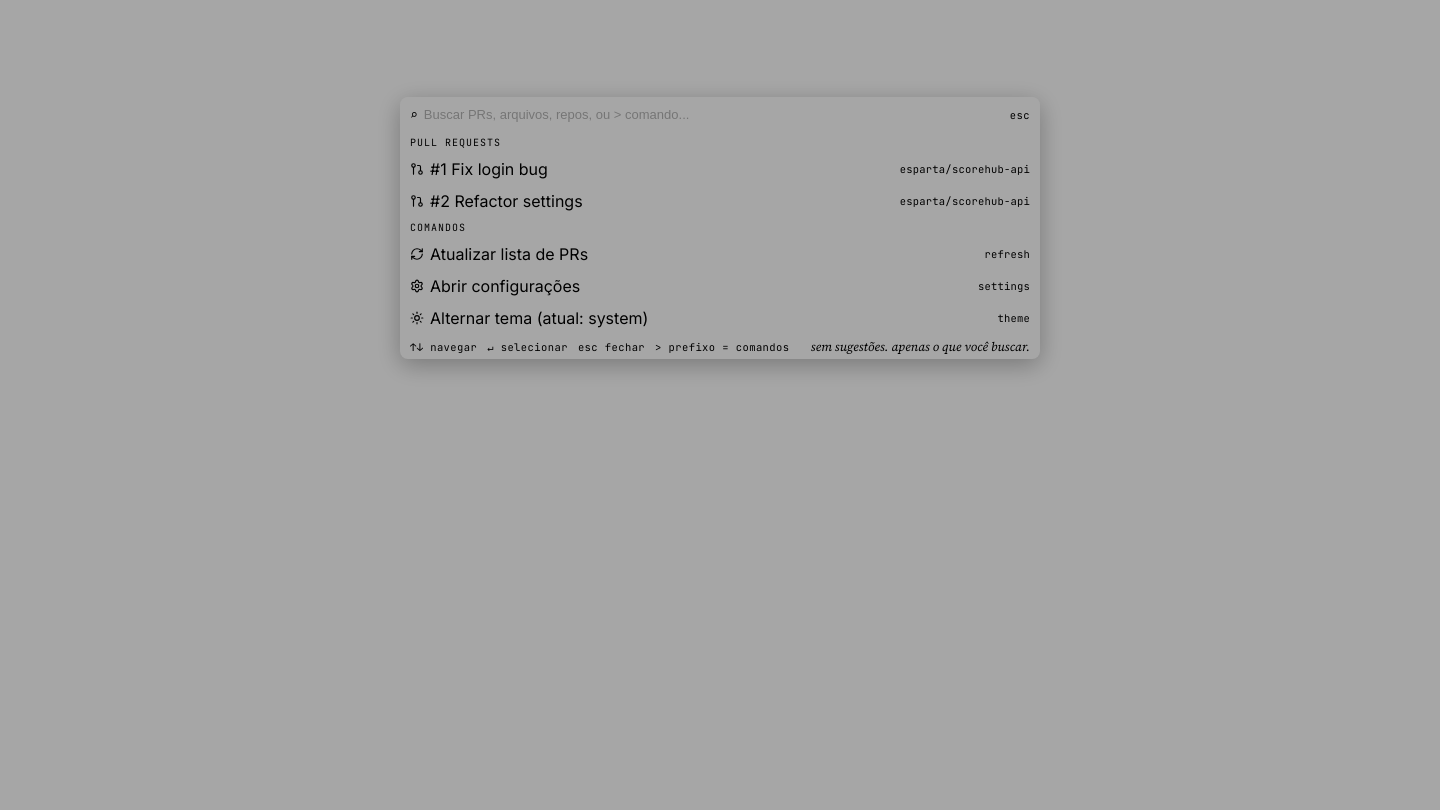
Test: CommandPalette › fuzzy filters PRs by title
The image size is (1440, 810).
Type "login" into the field labelled "Buscar" at (714, 115), box left=424, top=103, right=1004, bottom=126
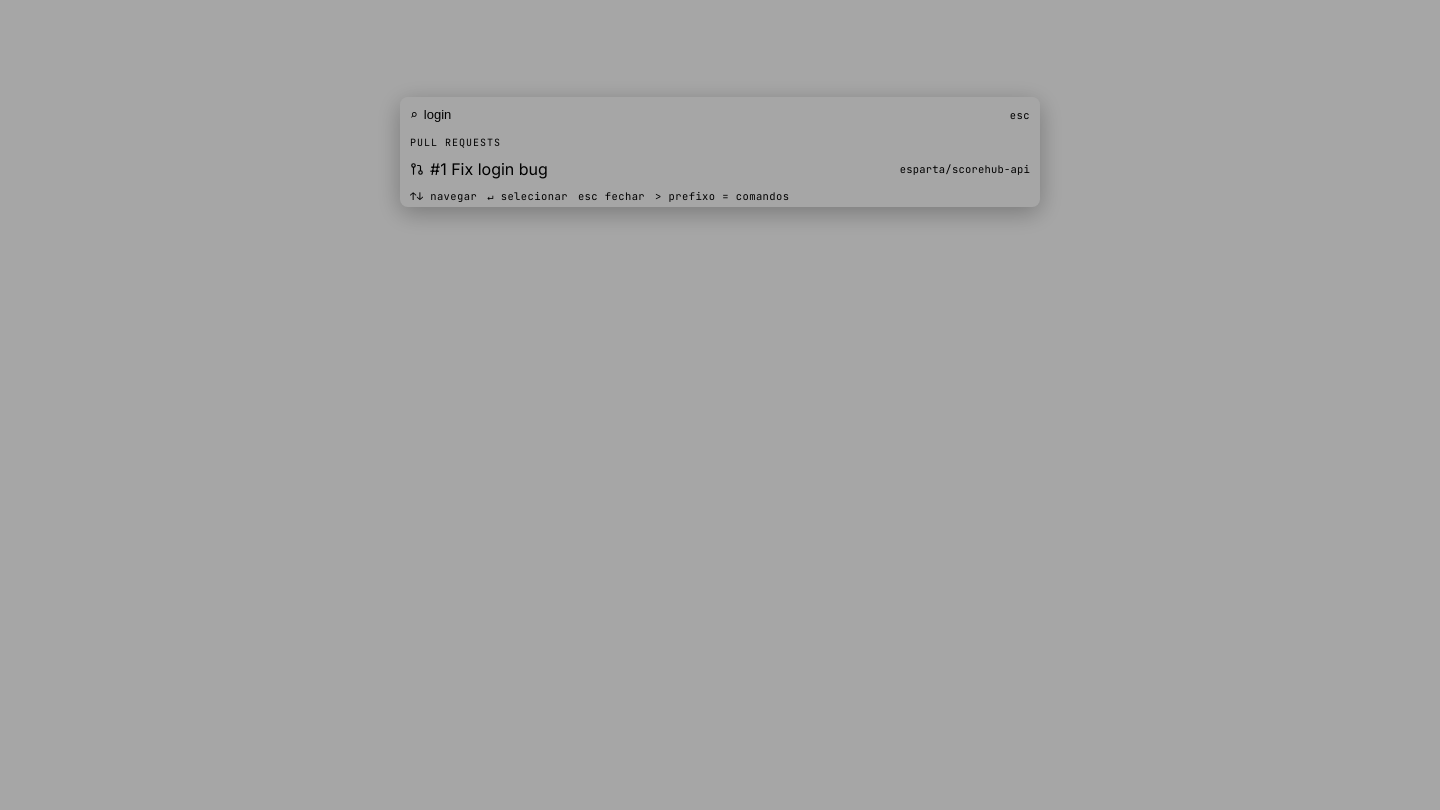
Expected: the text "#1 Fix login bug" is shown, left=430, top=159, right=548, bottom=179
Now the option "#2 Refactor settings" is gone
